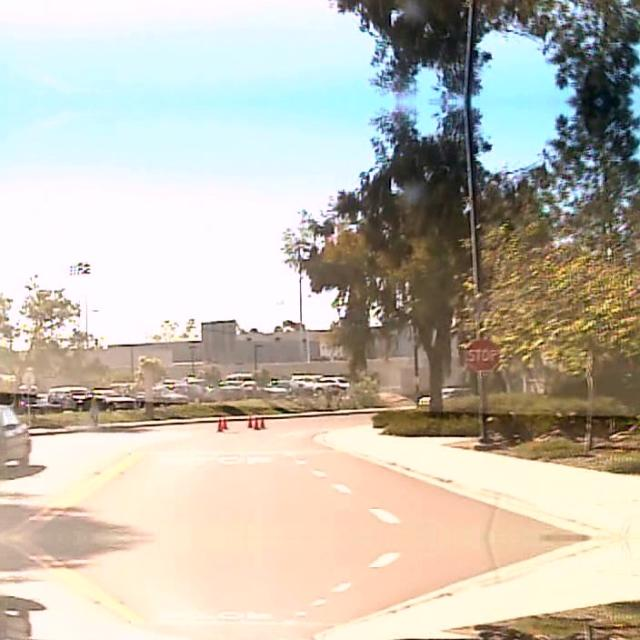stop: (464, 336, 498, 370)
